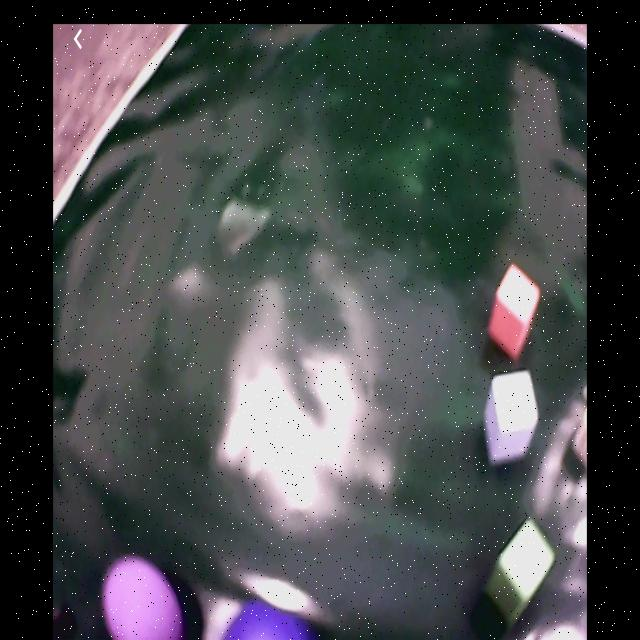ball: (102, 557, 182, 640), (223, 604, 306, 640)
